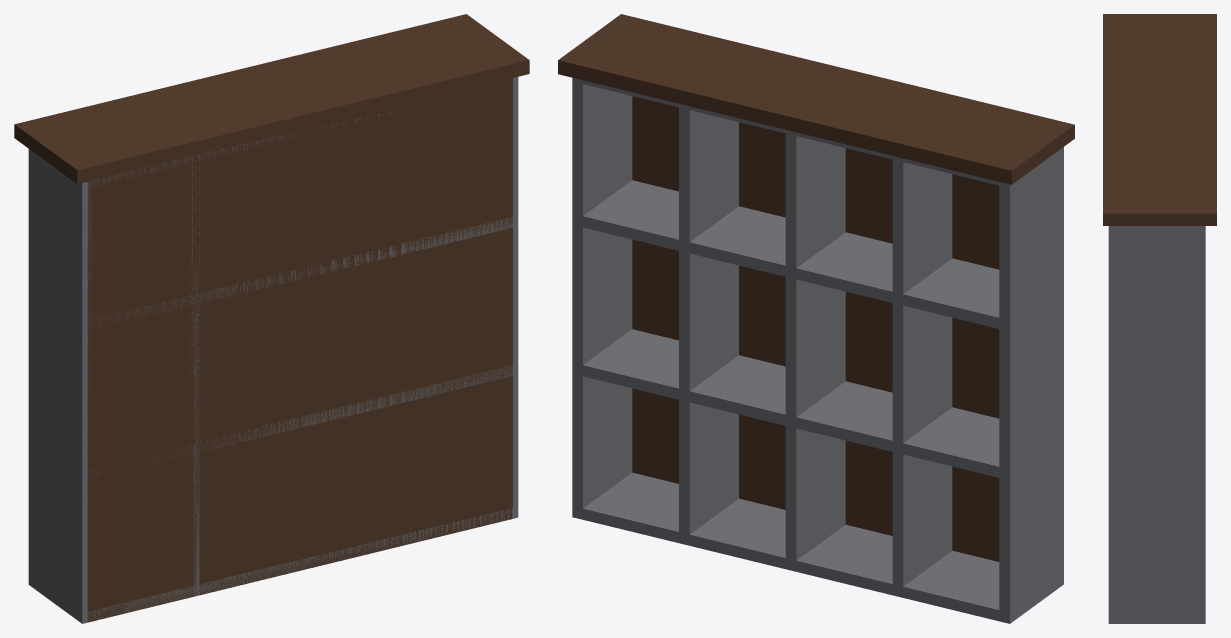
Rendered from SM_K_ShoeCubby.obj.
The picture shows the model from 3 angles, left to right: view 1: azimuth 30°, elevation 25°; view 2: azimuth 150°, elevation 25°; view 3: azimuth 270°, elevation 25°; orthographic projection. The views are drawn at different scales.
Visible parts, largest first — view 1: SM_K_ShoeCubby; view 2: SM_K_ShoeCubby; view 3: SM_K_ShoeCubby.
Boxes of the visible parts, box(x1,y1,x2,y2) form: SM_K_ShoeCubby: box(14, 14, 529, 623); SM_K_ShoeCubby: box(558, 14, 1074, 623); SM_K_ShoeCubby: box(1103, 14, 1216, 623).
Size of the model in its own units: 1.7 by 1.64 by 0.41.
